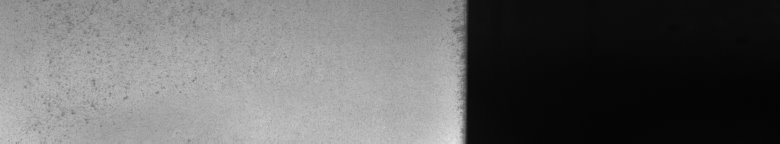ib: (30, 6, 234, 132)
